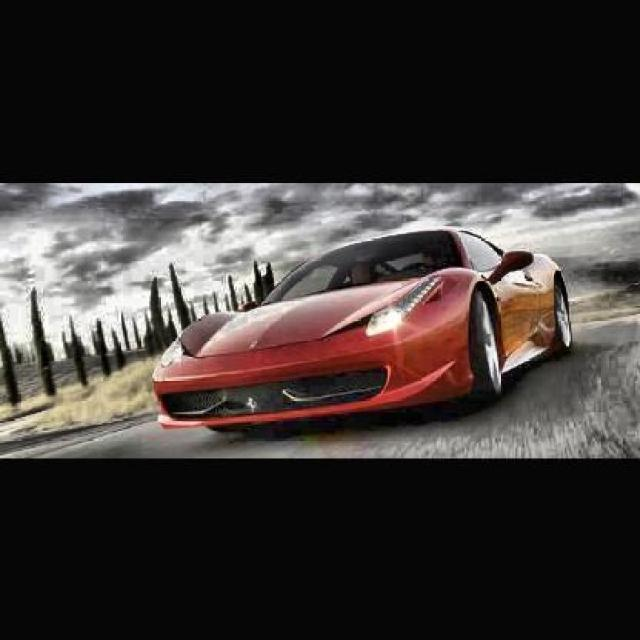maroon: (151, 228, 568, 440)
